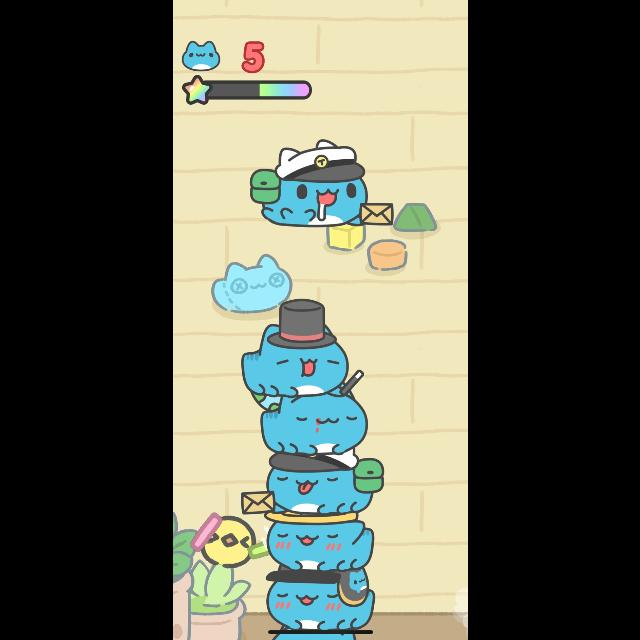capoo: (251, 138, 395, 232), (239, 301, 359, 397), (230, 452, 384, 514), (262, 568, 376, 630), (257, 396, 371, 454), (260, 514, 378, 570)
